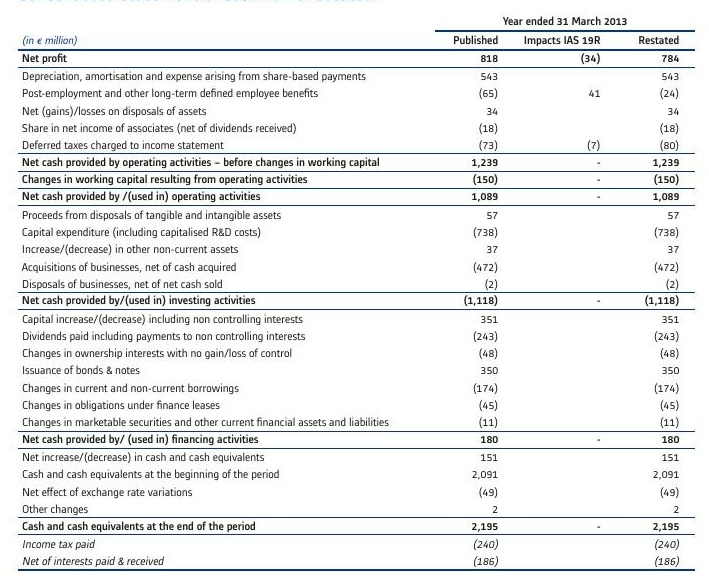table: (0, 0, 709, 588)
